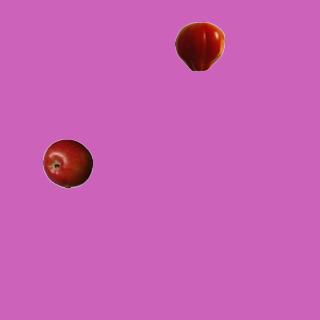Apple Braeburn: (42, 138, 92, 188)
Tomato 1: (174, 21, 224, 71)
